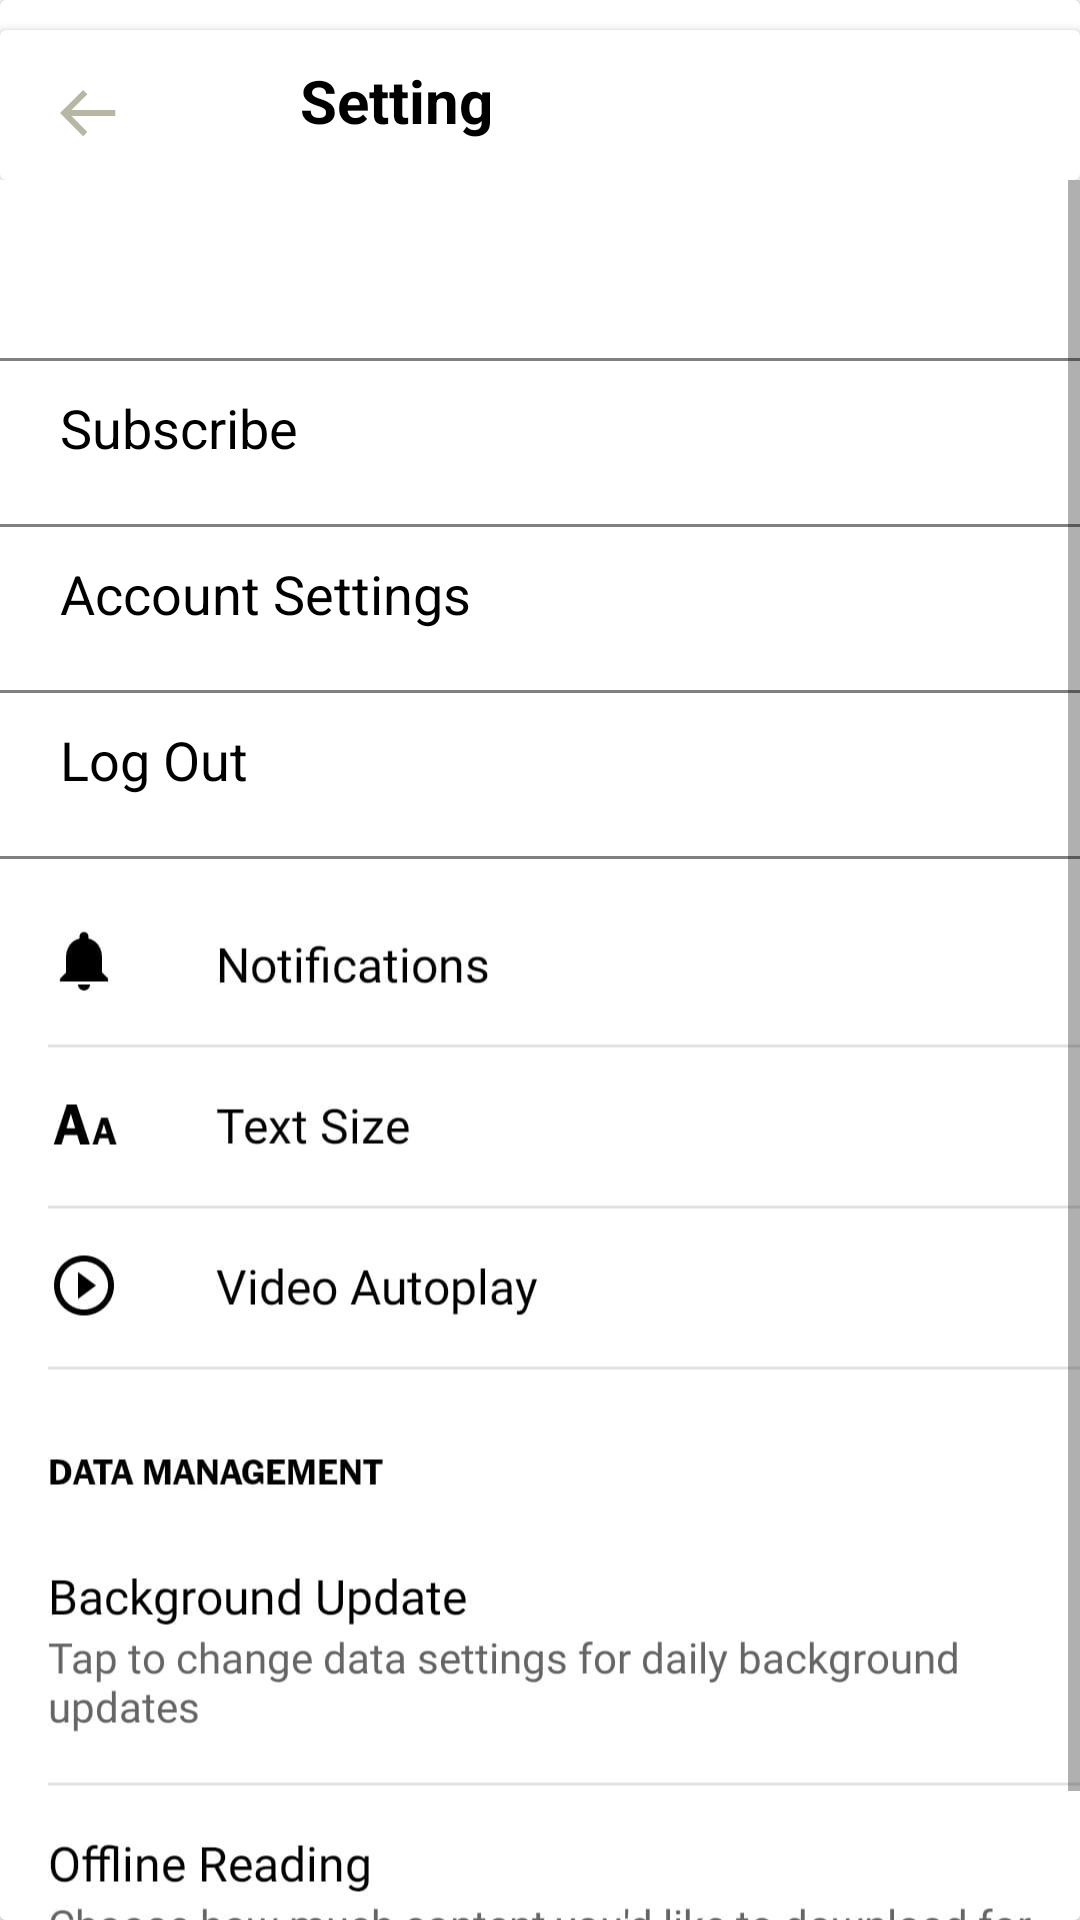

Point at icon controls on the screen. Image size 1080w x 1920h, points as point (x, y).
backarrow: point (87, 113)
